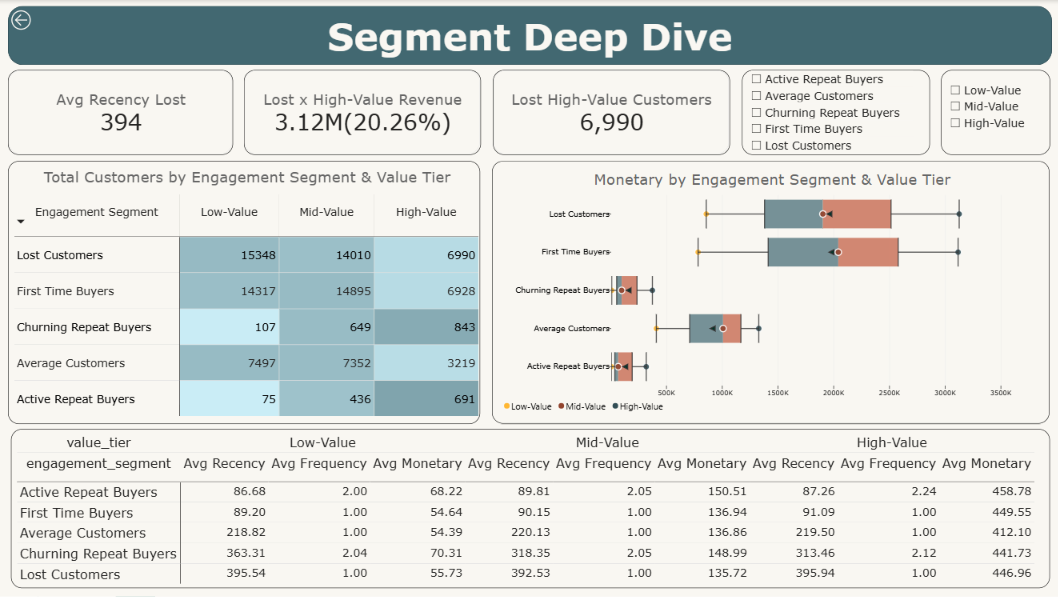

What the dashboard file says about the page in this screenshot:
{"tool":"powerbi","page":{"name":"Page 2","canvas":[1920,1080],"ordinal":1},"visuals":[{"type":"cardVisual","fields":{"Data":[" Measures.Lost High-Value Customers"]},"box":[892.2,126.7,428.9,153.8],"z":0},{"type":"cardVisual","fields":{"Data":[" Measures.Avg Recency Lost"]},"box":[14.5,126.7,407.2,153.8],"z":1000},{"type":"cardVisual","fields":{"Data":[" Measures.Combined Measure"]},"box":[442.5,126.7,428.9,153.8],"z":2000},{"type":"shape","box":[14.5,10.9,1889.3,106.8],"z":3000},{"type":"pivotTable","fields":{"Rows":["vw_rfm_segments.engagement_segment"],"Values":["Avg(vw_rfm_segments.recency)","Avg(vw_rfm_segments.frequency)","Avg(vw_rfm_segments.monetary)"],"Columns":["vw_rfm_segments.value_tier"]},"box":[19.9,776.3,1880.2,287.7],"z":4000},{"type":"pivotTable","title":"Total Customers by Engagement Segment & Value Tier","fields":{"Rows":["vw_rfm_segments.engagement_segment"],"Columns":["vw_rfm_segments.value_tier"],"Values":[" Measures.Customer Count"]},"box":[14.5,291.4,854.2,475.9],"z":5000},{"type":"listSlicer","fields":{"Values":["vw_rfm_segments.engagement_segment"]},"box":[1341.9,126.7,340.2,153.8],"z":7000},{"type":"listSlicer","fields":{"Values":["vw_rfm_segments.value_tier"]},"box":[1702.9,126.7,197.3,153.8],"z":8000},{"type":"actionButton","box":[14.5,9.1,47.3,54.5],"z":9000},{"type":"BoxandWhiskerByMAQ1823AD39DT234AB532063E128AX","title":"Monetary by Engagement Segment & Value Tier","fields":{"measure":["Sum(vw_rfm_segments.monetary)"],"xCategoryParent":["vw_rfm_segments.engagement_segment"],"categoryColor":["vw_rfm_segments.value_tier"]},"box":[891.1,291.1,1008.9,475.6],"z":9003}]}

Visuals, with their boxes in screenshot pixels (x1, y1, x2, y2), scaled from the page's 1920x1080 canvas onto the 1058x597 screenshot:
cardVisual -  Measures.Lost High-Value Customers: box(492, 70, 728, 155)
cardVisual -  Measures.Avg Recency Lost: box(8, 70, 232, 155)
cardVisual -  Measures.Combined Measure: box(244, 70, 480, 155)
shape: box(8, 6, 1049, 65)
pivotTable - vw_rfm_segments.engagement_segment x Avg(vw_rfm_segments.recency): box(11, 429, 1047, 588)
"Total Customers by Engagement Segment & Value Tier" pivotTable: box(8, 161, 479, 424)
listSlicer - vw_rfm_segments.engagement_segment: box(739, 70, 927, 155)
listSlicer - vw_rfm_segments.value_tier: box(938, 70, 1047, 155)
actionButton: box(8, 5, 34, 35)
"Monetary by Engagement Segment & Value Tier" BoxandWhiskerByMAQ1823AD39DT234AB532063E128AX: box(491, 161, 1047, 424)
